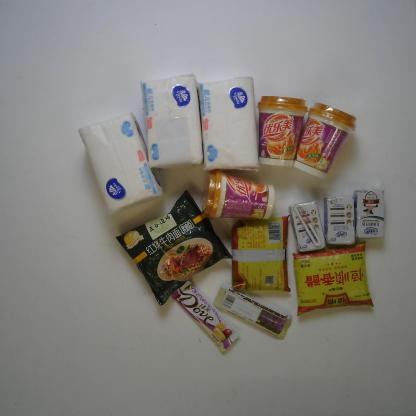Chocolate: (171, 279, 242, 354), (212, 284, 294, 342)
Instant Drink: (292, 100, 358, 180), (200, 168, 278, 223), (255, 92, 308, 169)
Instant Noodles: (115, 188, 235, 308)
Milk: (287, 199, 326, 254), (322, 194, 357, 248), (352, 188, 386, 240)
Seasoner: (290, 240, 376, 318), (230, 211, 294, 294)
Tissue: (75, 110, 164, 216), (138, 70, 204, 172), (196, 75, 262, 174)
